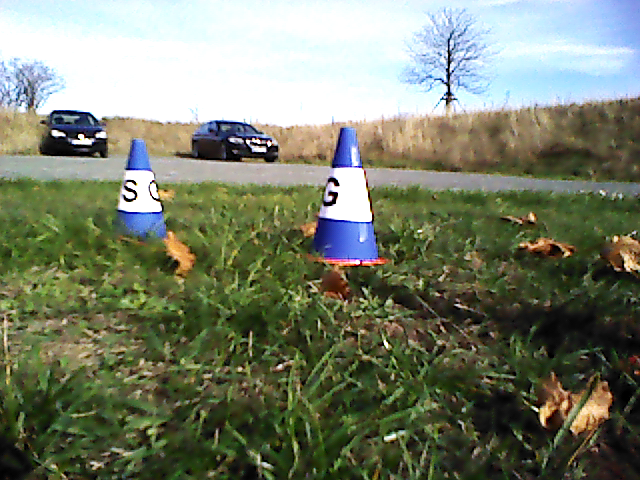bluecone: (312, 127, 376, 257), (114, 139, 167, 239)
